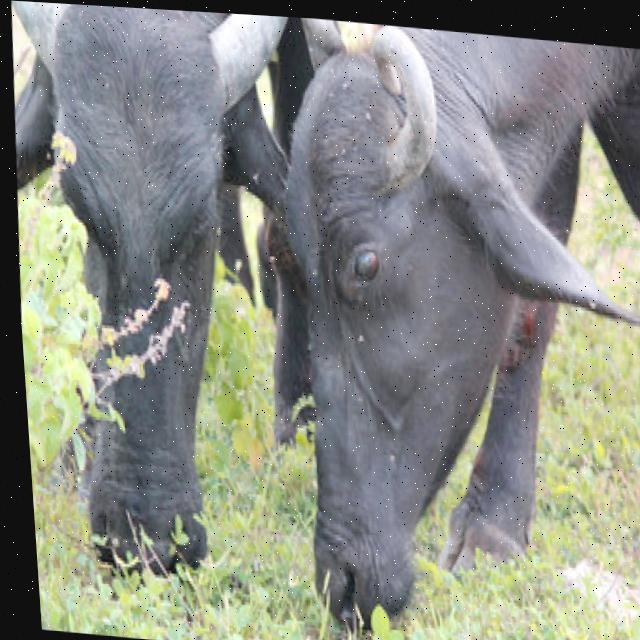Buffalo: (252, 15, 640, 640), (0, 0, 318, 587)
